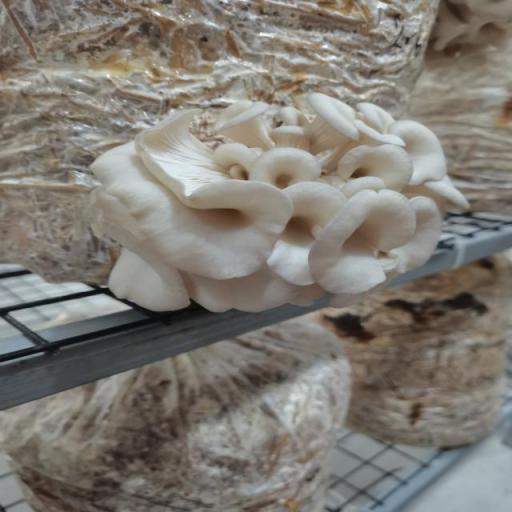White Oyster Mushroom: (90, 87, 474, 319)
